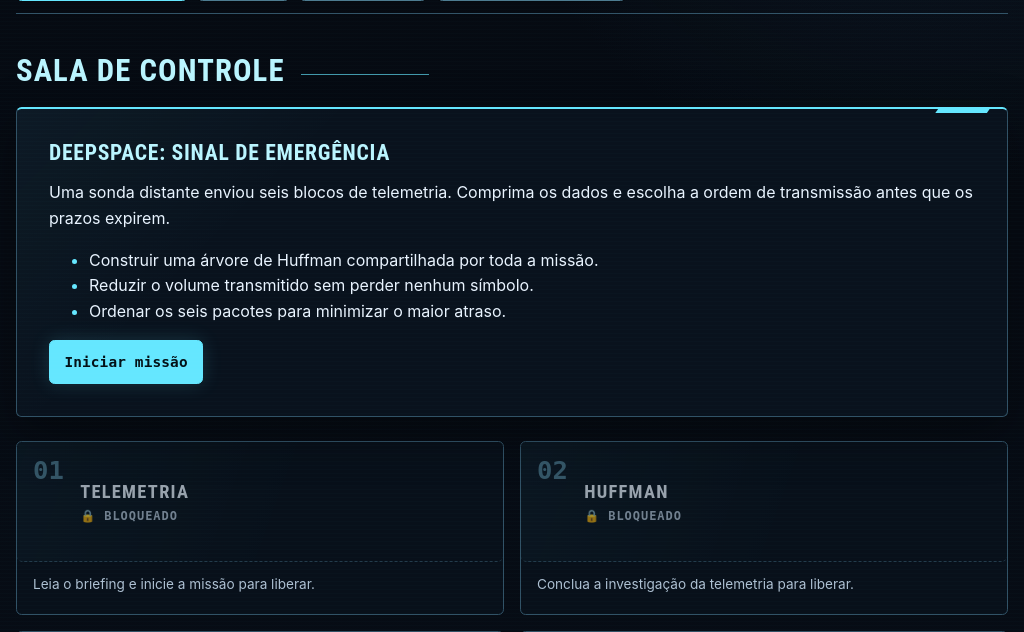
Test: progresso salvo localmente › avisa quando o navegador recusa a gravação e continua jogável
(page scrolled)
Click the button "Iniciar missão": (126, 362) [49,340,203,384]
(page scrolled)
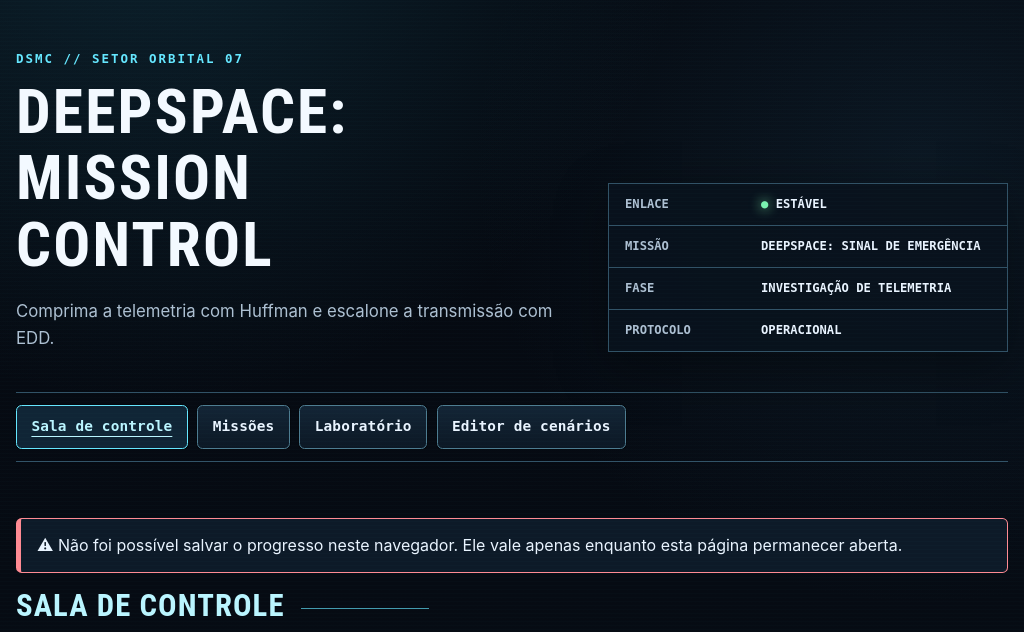
expect the message shows "Não foi possível salvar o progresso": met, box [37,534,902,554]
expect the text "Investigação de telemetria" is shown: met, box [761,281,951,295]
